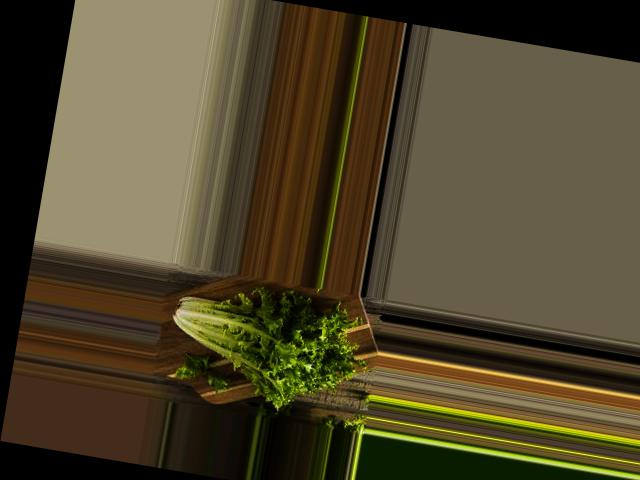lettuce: (204, 248, 372, 418)
